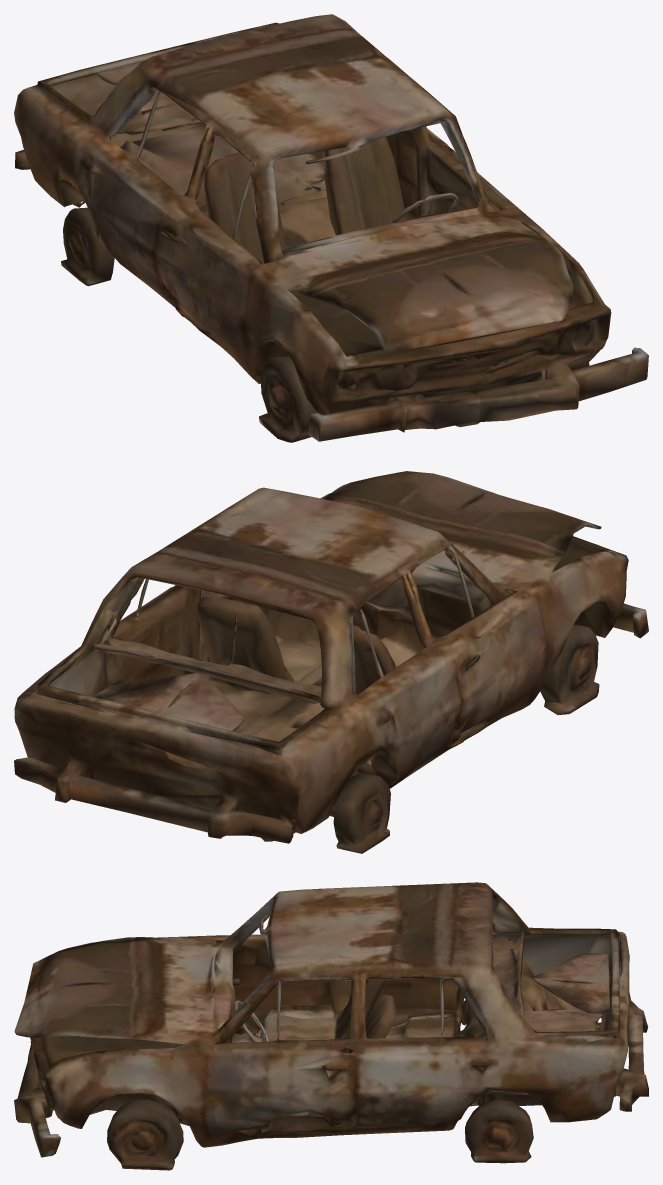
Rendered from wreck.glb.
3 renders of one model, top to bottom at view 1: azimuth 30°, elevation 25°; view 2: azimuth 150°, elevation 25°; view 3: azimuth 270°, elevation 25°, orthographic. The views are drawn at different scales.
Parts seen in each view (by area): view 1: tripo_node_3da9b92f-5475-4ff6-995b-cba9013f3b92; view 2: tripo_node_3da9b92f-5475-4ff6-995b-cba9013f3b92; view 3: tripo_node_3da9b92f-5475-4ff6-995b-cba9013f3b92.
Boxes of the visible parts, left/top/right/bottom form: tripo_node_3da9b92f-5475-4ff6-995b-cba9013f3b92: left=14, top=14, right=648, bottom=442; tripo_node_3da9b92f-5475-4ff6-995b-cba9013f3b92: left=14, top=471, right=648, bottom=853; tripo_node_3da9b92f-5475-4ff6-995b-cba9013f3b92: left=14, top=882, right=648, bottom=1170.
Size of the model in its own units: 0.5161 by 0.3351 by 0.9994.
Materials: 1 (1 with a texture image).
